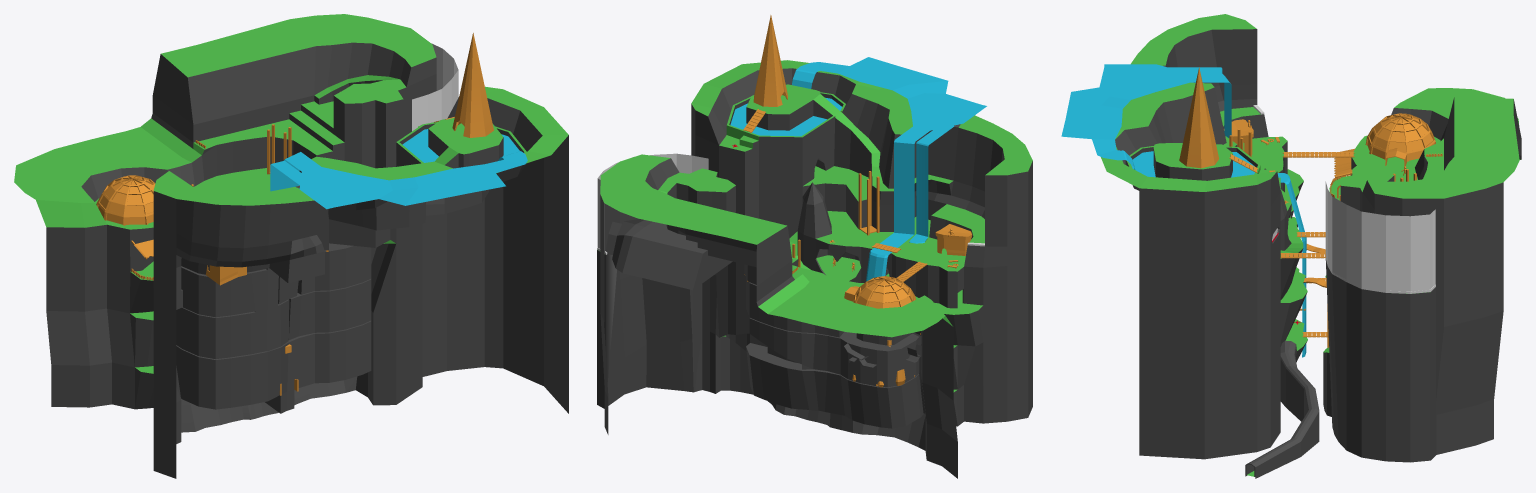
Rendered from corneta bien.fbx.
The picture shows the model from 3 angles, left to right: view 1: azimuth 30°, elevation 25°; view 2: azimuth 150°, elevation 25°; view 3: azimuth 270°, elevation 25°; orthographic projection. The views are drawn at different scales.
Visible parts, largest first — view 1: Cube.005, Cube.004; view 2: Cube.005, Cube.004; view 3: Cube.005, Cube.004.
Part boxes in pixels (x1,y1,x2,y2): Cube.005: (14, 14, 568, 478); Cube.004: (412, 43, 458, 131); Cube.005: (597, 15, 1032, 478); Cube.004: (597, 153, 708, 251); Cube.005: (1061, 14, 1521, 478); Cube.004: (1272, 181, 1435, 292).
Size of the model in its own units: 21491 by 18051 by 20574.
